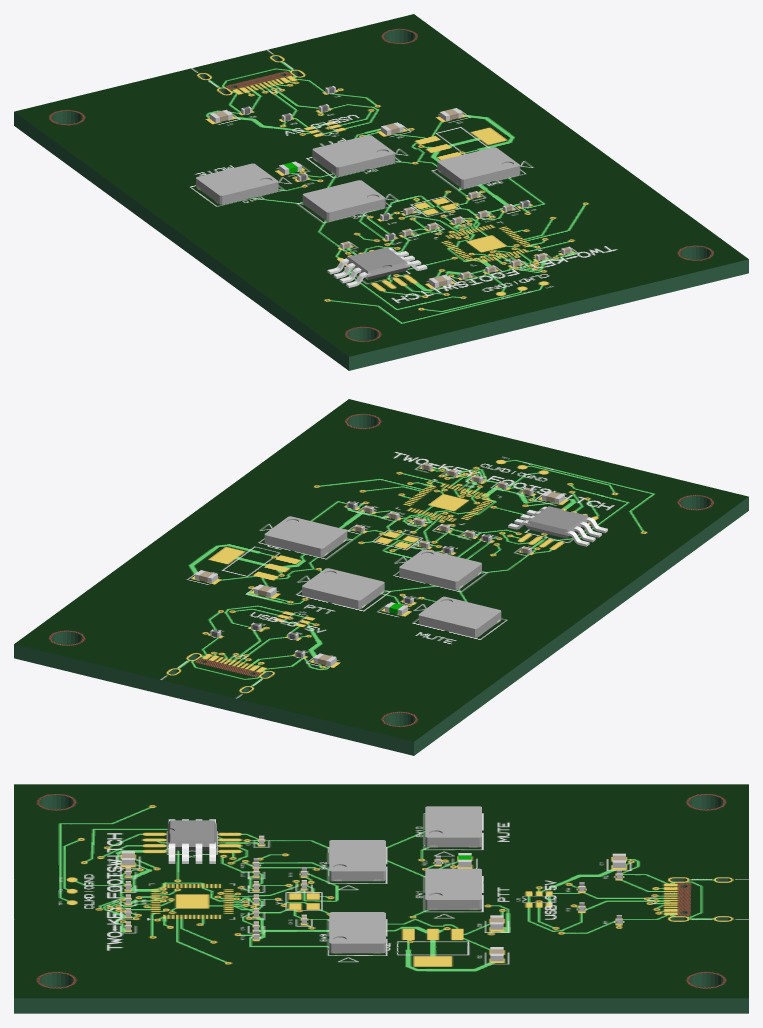
The picture shows the model from 3 angles, top to bottom: view 1: azimuth 30°, elevation 25°; view 2: azimuth 150°, elevation 25°; view 3: azimuth 270°, elevation 25°; orthographic projection. The views are drawn at different scales.
Visible parts, largest first — view 1: Box0, SW3, SW1, SW2, SW10, U4; view 2: Box0, SW3, SW10, SW2, SW1, U4; view 3: Box0, SW2, SW3, SW1, SW10, U4.
Boxes of the visible parts, box(x1,y1,x2,y2) form: Box0: box(14, 14, 748, 370); SW3: box(437, 147, 520, 188); SW1: box(312, 135, 395, 176); SW2: box(302, 180, 385, 221); SW10: box(196, 163, 278, 204); U4: box(327, 247, 427, 287); Box0: box(14, 399, 748, 755); SW3: box(264, 516, 347, 557); SW10: box(418, 596, 501, 637); SW2: box(399, 549, 481, 590); SW1: box(302, 568, 384, 609); U4: box(508, 506, 607, 546); Box0: box(14, 784, 748, 1013); SW2: box(329, 840, 385, 881); SW3: box(329, 912, 385, 953); SW1: box(425, 868, 481, 909); SW10: box(425, 806, 481, 847); U4: box(167, 819, 216, 863).
Bounding box in the file's own units: 47.5 × 2.88 × 68.9.
Materials: 10 (2 with a texture image).
